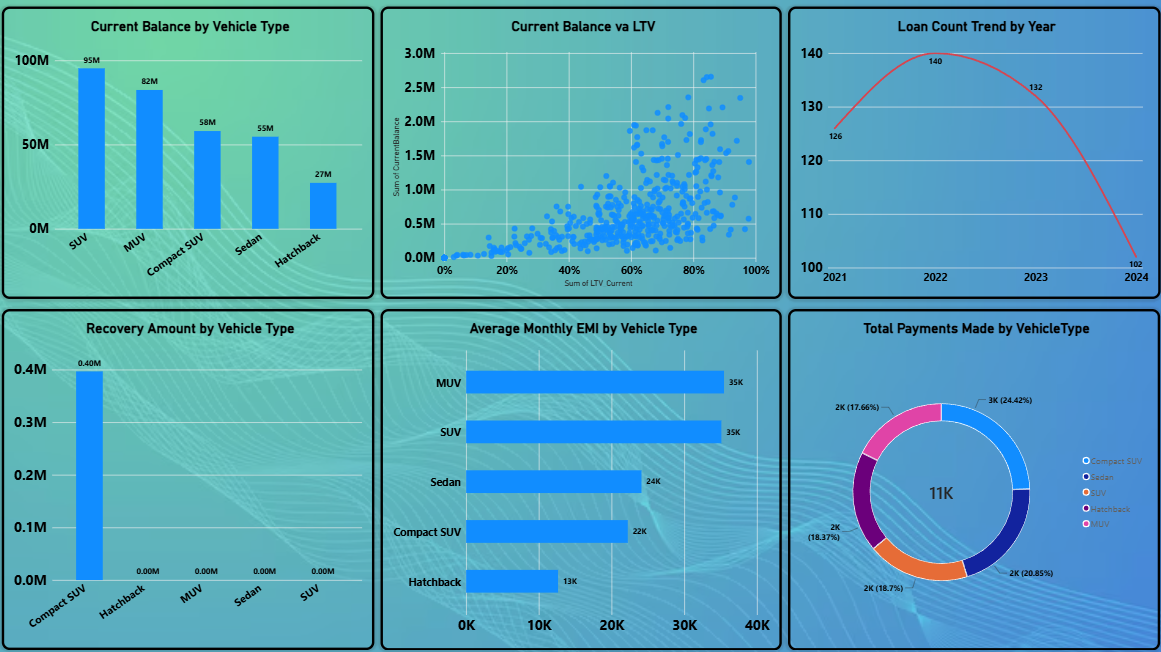

Layout of this report page (visuals, bound fields, positions):
{"tool":"powerbi","page":{"name":"Portfolio & Performance Analysis","canvas":[1920,1080],"ordinal":2},"visuals":[{"type":"clusteredColumnChart","title":"Current Balance by Vehicle Type","fields":{"Category":["Loan.VehicleType"],"Y":["Sum(Loan.CurrentBalance)"]},"box":[6.2,12.3,613.4,481.6],"z":0},{"type":"scatterChart","title":"Current Balance va LTV","fields":{"X":["Sum(Loan.LTV_Current)"],"Y":["Sum(Loan.CurrentBalance)"],"Category":["Loan.LoanID"]},"box":[629.8,12.3,660.7,481.6],"z":1000},{"type":"lineChart","title":"Loan Count Trend by Year","fields":{"Category":["Calendar.Year"],"Y":["Measures (2).Loan Count"]},"box":[1300.9,12.3,613.4,481.6],"z":2000},{"type":"clusteredColumnChart","title":"Recovery Amount by Vehicle Type","fields":{"Category":["Loan.VehicleType"],"Y":["Sum(Loan.RecoveryAmount)"]},"box":[6.2,510.5,613.4,561.9],"z":3000},{"type":"clusteredBarChart","title":"Average Monthly EMI by Vehicle Type","fields":{"Category":["Loan.VehicleType"],"Y":["Avg(Loan.MonthlyEMI)"]},"box":[630,510,661,562],"z":4000},{"type":"donutChart","title":" Total Payments Made by VehicleType","fields":{"Category":["Loan.VehicleType"],"Y":["Sum(Loan.TotalPaymentsMade)"]},"box":[1301,510,613,562],"z":5000}]}

Visuals, with their boxes in screenshot pixels (x1, y1, x2, y2), scaled from the page's 1920x1080 canvas onto the 1161x652 screenshot:
"Current Balance by Vehicle Type" clusteredColumnChart: 4:7:375:298
"Current Balance va LTV" scatterChart: 381:7:780:298
"Loan Count Trend by Year" lineChart: 787:7:1158:298
"Recovery Amount by Vehicle Type" clusteredColumnChart: 4:308:375:647
"Average Monthly EMI by Vehicle Type" clusteredBarChart: 381:308:781:647
" Total Payments Made by VehicleType" donutChart: 787:308:1157:647
